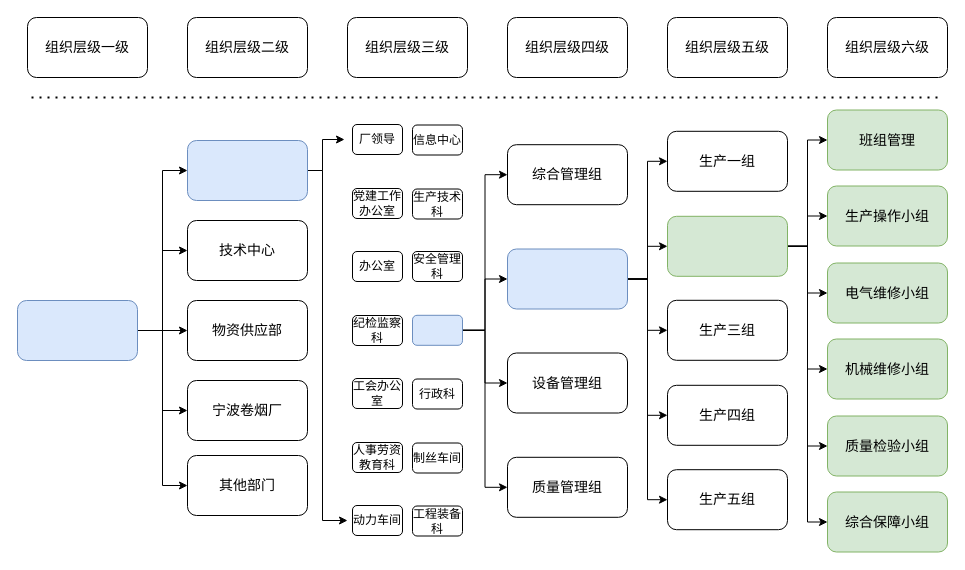
Some shapes in this 965 by 570 pixel diagram are drawn without their labels. The centre of each missing label's shape, as x and y in pixels:
卷包车间: pixel 437 329
杭州卷烟厂: pixel 247 170
浙江中烟工业有限责任公司: pixel 77 330
生产二组: pixel 727 245
生产管理组: pixel 567 278
